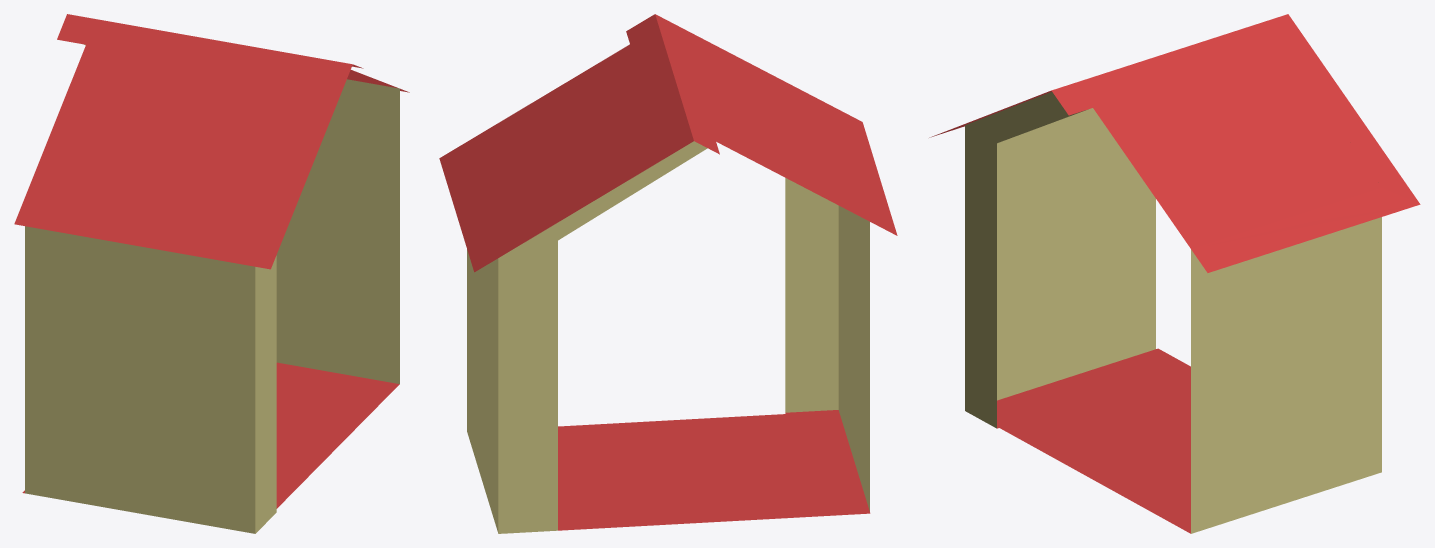
3 views of the same model, side by side, from view 1: azimuth 30°, elevation 25°; view 2: azimuth 150°, elevation 25°; view 3: azimuth 270°, elevation 25° (orthographic). The views are drawn at different scales.
Bounding box in the file's own units: 13.14 × 13.51 × 11.68.
